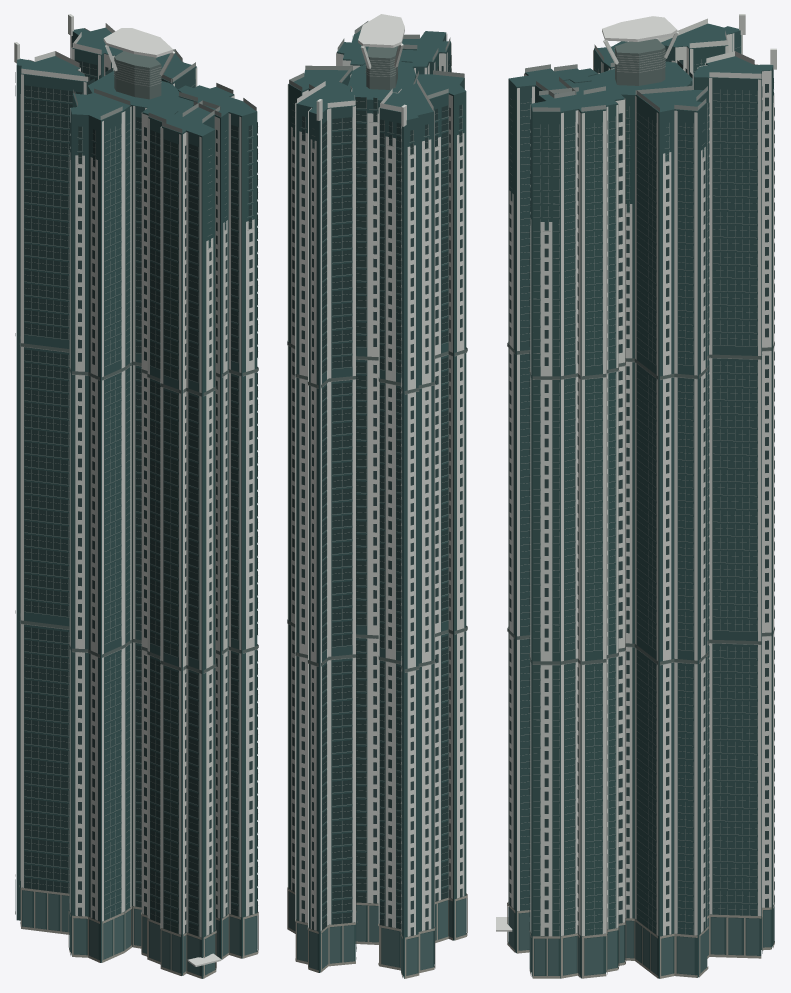
File: bespoke-skyl65-d.glb
3 renders of one model, left to right at view 1: azimuth 30°, elevation 25°; view 2: azimuth 150°, elevation 25°; view 3: azimuth 270°, elevation 25°, orthographic. The views are drawn at different scales.
Parts seen in each view (by area): view 1: D_01_six-wing_concave_structure, D_02_large_white_end_piers, D_03_glass_bays_and_recessed_windows001_1, D_04_fine_mullions_and_refuge_reveals001, D_03_glass_bays_and_recessed_windows001, D_03_glass_bays_and_recessed_windows001_2, D_06_three-storey_retail_and_entries001_2, D_05_asymmetric_penthouse_and_crown001_1, D_06_three-storey_retail_and_entries001, D_05_asymmetric_penthouse_and_crown001_4, D_04_fine_mullions_and_refuge_reveals001_1, D_05_asymmetric_penthouse_and_crown001_2 (+2 smaller); view 2: D_02_large_white_end_piers, D_01_six-wing_concave_structure, D_03_glass_bays_and_recessed_windows001_1, D_03_glass_bays_and_recessed_windows001_2, D_04_fine_mullions_and_refuge_reveals001, D_05_asymmetric_penthouse_and_crown001_1, D_06_three-storey_retail_and_entries001_2, D_06_three-storey_retail_and_entries001, D_03_glass_bays_and_recessed_windows001, D_04_fine_mullions_and_refuge_reveals001_1, D_05_asymmetric_penthouse_and_crown001_3, D_05_asymmetric_penthouse_and_crown001_2 (+2 smaller); view 3: D_03_glass_bays_and_recessed_windows001, D_01_six-wing_concave_structure, D_02_large_white_end_piers, D_04_fine_mullions_and_refuge_reveals001, D_03_glass_bays_and_recessed_windows001_2, D_06_three-storey_retail_and_entries001_2, D_05_asymmetric_penthouse_and_crown001_1, D_06_three-storey_retail_and_entries001, D_05_asymmetric_penthouse_and_crown001_2, D_05_asymmetric_penthouse_and_crown001_4, D_04_fine_mullions_and_refuge_reveals001_1, D_05_asymmetric_penthouse_and_crown001 (+1 smaller).
Part boxes in pixels (x1,y1,x2,y2): D_01_six-wing_concave_structure: (16,44,257,978); D_02_large_white_end_piers: (20,28,254,937); D_03_glass_bays_and_recessed_windows001_1: (15,43,251,936); D_04_fine_mullions_and_refuge_reveals001: (21,62,258,936); D_03_glass_bays_and_recessed_windows001: (104,80,257,920); D_03_glass_bays_and_recessed_windows001_2: (69,67,252,934); D_06_three-storey_retail_and_entries001_2: (15,879,257,975); D_05_asymmetric_penthouse_and_crown001_1: (16,27,257,136); D_06_three-storey_retail_and_entries001: (15,874,258,978); D_05_asymmetric_penthouse_and_crown001_4: (114,51,161,99); D_04_fine_mullions_and_refuge_reveals001_1: (15,333,258,673); D_05_asymmetric_penthouse_and_crown001_2: (73,49,256,132); D_02_large_white_end_piers: (287,32,464,936); D_01_six-wing_concave_structure: (288,34,466,978); D_03_glass_bays_and_recessed_windows001_1: (302,55,462,929); D_03_glass_bays_and_recessed_windows001_2: (292,66,462,935); D_04_fine_mullions_and_refuge_reveals001: (287,64,467,925); D_05_asymmetric_penthouse_and_crown001_1: (288,30,466,133); D_06_three-storey_retail_and_entries001_2: (289,892,466,975); D_06_three-storey_retail_and_entries001: (287,887,467,978); D_03_glass_bays_and_recessed_windows001: (293,99,402,935); D_04_fine_mullions_and_refuge_reveals001_1: (287,341,467,672); D_05_asymmetric_penthouse_and_crown001_3: (358,14,404,47); D_05_asymmetric_penthouse_and_crown001_2: (289,21,464,98); D_03_glass_bays_and_recessed_windows001: (510,42,773,936); D_01_six-wing_concave_structure: (508,44,773,978); D_02_large_white_end_piers: (508,30,774,936); D_04_fine_mullions_and_refuge_reveals001: (507,46,774,935); D_03_glass_bays_and_recessed_windows001_2: (509,60,774,936); D_06_three-storey_retail_and_entries001_2: (508,905,774,975); D_05_asymmetric_penthouse_and_crown001_1: (508,23,773,112); D_06_three-storey_retail_and_entries001: (507,901,774,978); D_05_asymmetric_penthouse_and_crown001_2: (525,44,707,111); D_05_asymmetric_penthouse_and_crown001_4: (615,39,665,85); D_04_fine_mullions_and_refuge_reveals001_1: (507,341,774,664); D_05_asymmetric_penthouse_and_crown001: (603,14,776,78).
Bounding box in the file's own units: 36.07 × 199 × 55.29.
